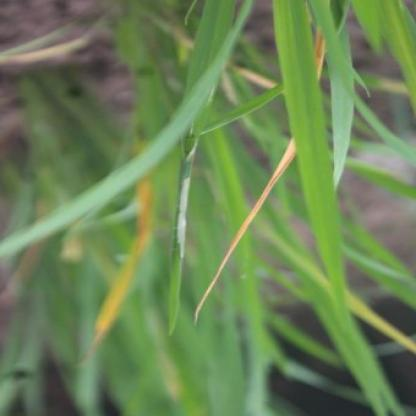Tungro: (191, 129, 313, 318), (90, 191, 159, 339)
